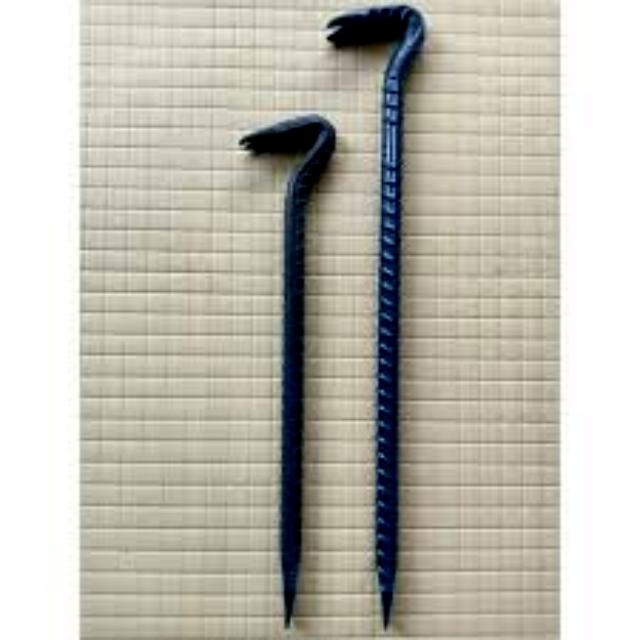crow bar: (314, 5, 462, 640), (230, 111, 346, 639)
